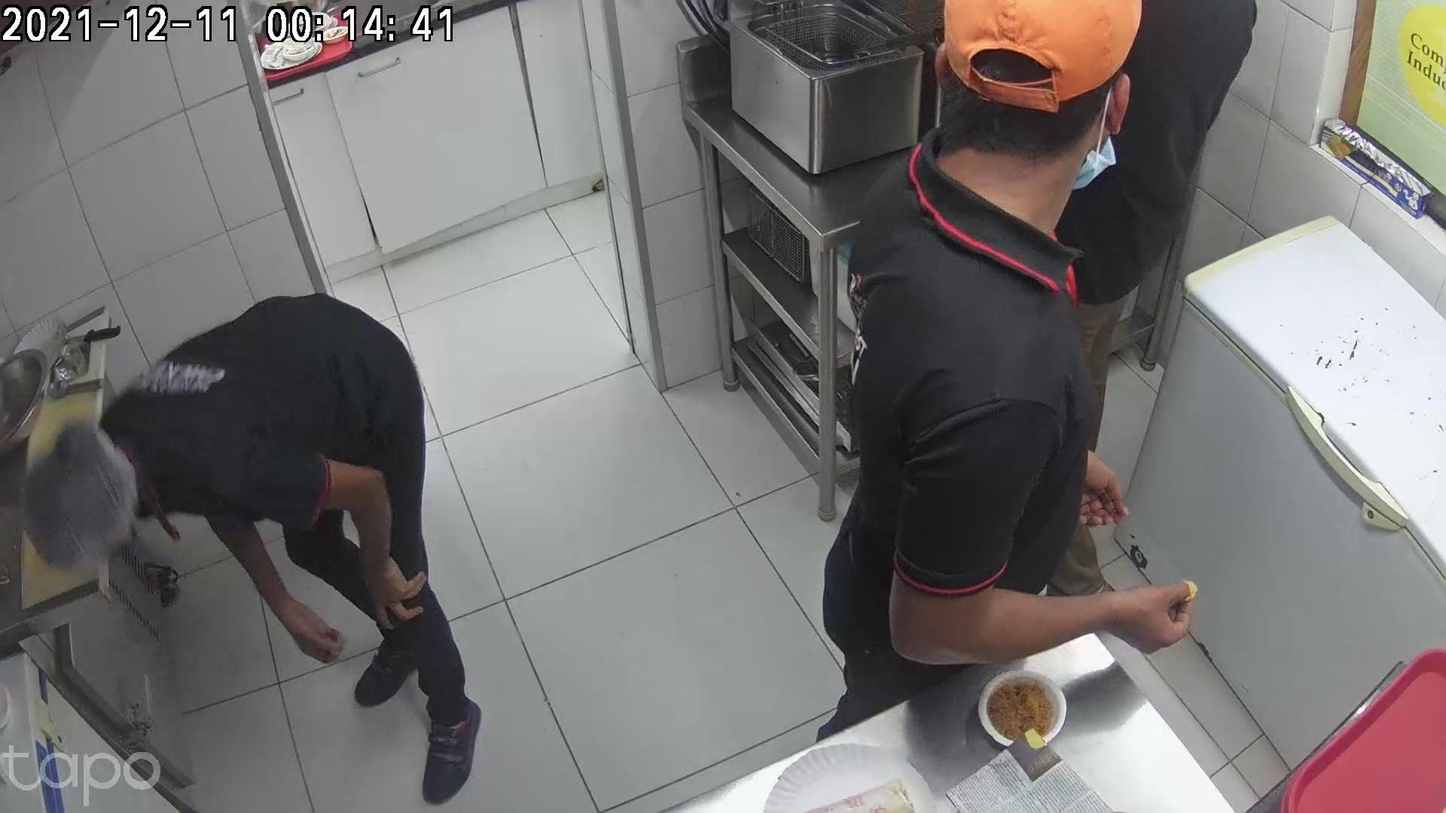gloves: (681, 597, 757, 745)
